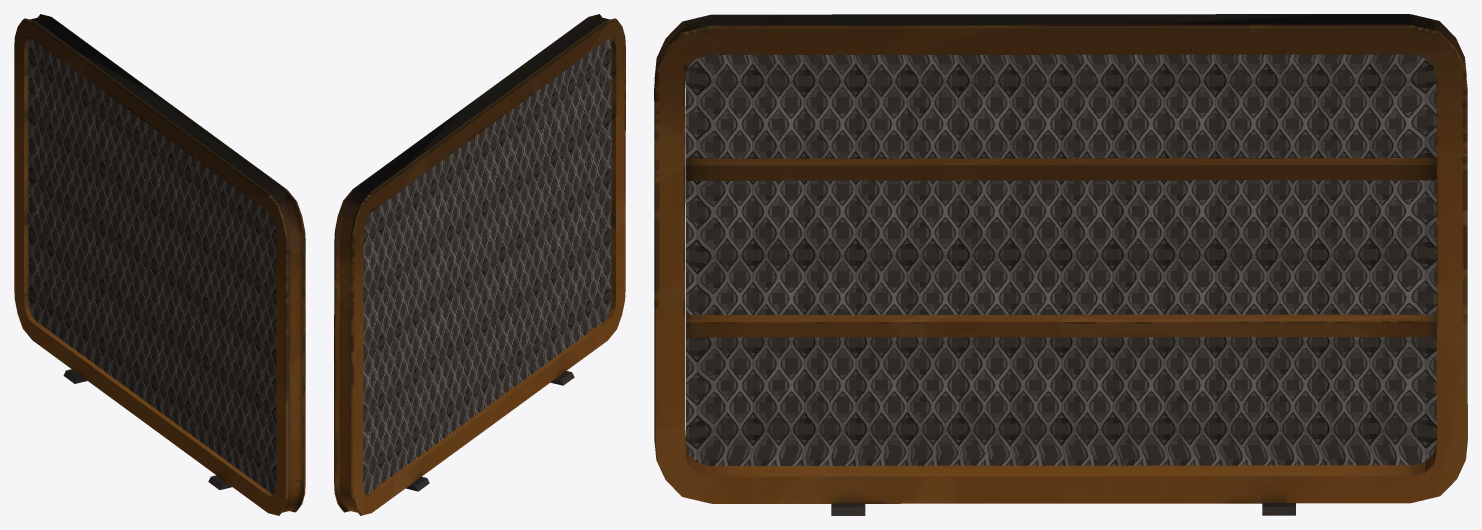
The picture shows the model from 3 angles, left to right: view 1: azimuth 30°, elevation 25°; view 2: azimuth 150°, elevation 25°; view 3: azimuth 270°, elevation 25°; orthographic projection. The views are drawn at different scales.
Parts seen in each view (by area): view 1: body0_model0_lod0_mesh0, body0_model0_lod0_mesh1; view 2: body0_model0_lod0_mesh0, body0_model0_lod0_mesh1; view 3: body0_model0_lod0_mesh0, body0_model0_lod0_mesh1.
Boxes of the visible parts, box(x1,y1,x2,y2) form: body0_model0_lod0_mesh0: box(28, 39, 276, 494); body0_model0_lod0_mesh1: box(14, 14, 305, 515); body0_model0_lod0_mesh0: box(363, 39, 611, 494); body0_model0_lod0_mesh1: box(334, 14, 625, 515); body0_model0_lod0_mesh0: box(685, 54, 1436, 465); body0_model0_lod0_mesh1: box(654, 14, 1467, 515).
Bounding box in the file's own units: 9.05 × 80.5 × 123.
Materials: 2 (2 with a texture image).
